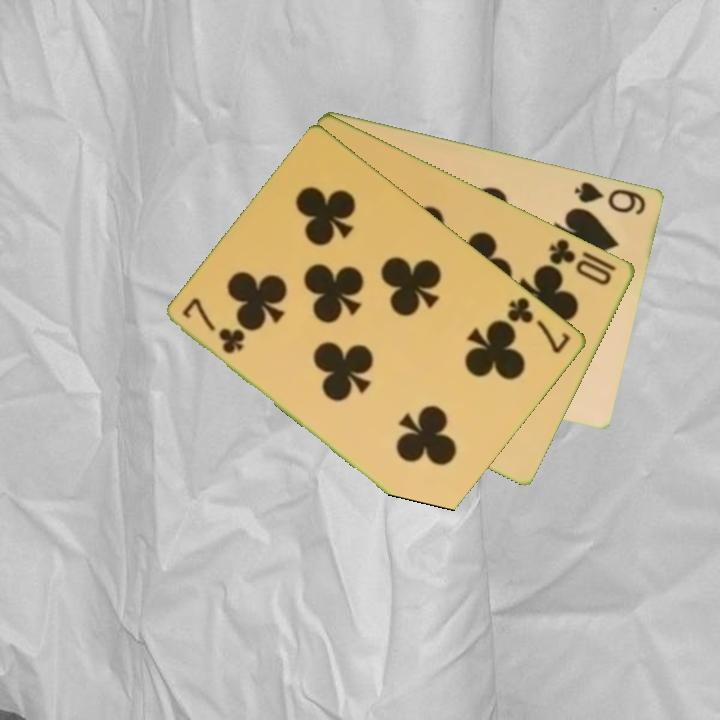10c: (546, 234, 615, 289)
6s: (571, 178, 649, 218)
7c: (504, 293, 574, 357), (179, 294, 249, 357)
